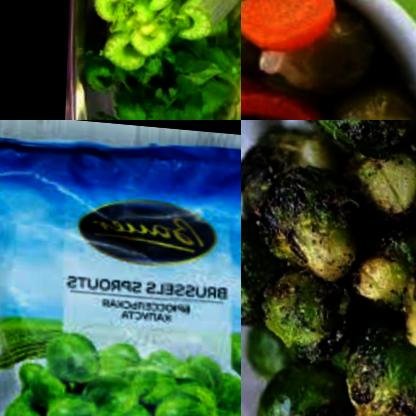bell pepper: (241, 11, 356, 120)
brus capusta: (241, 120, 416, 416), (0, 325, 241, 416), (268, 4, 391, 108), (323, 71, 416, 120), (241, 1, 264, 68)
carrot: (241, 0, 340, 49)
celery: (115, 0, 241, 120), (84, 0, 241, 80)
